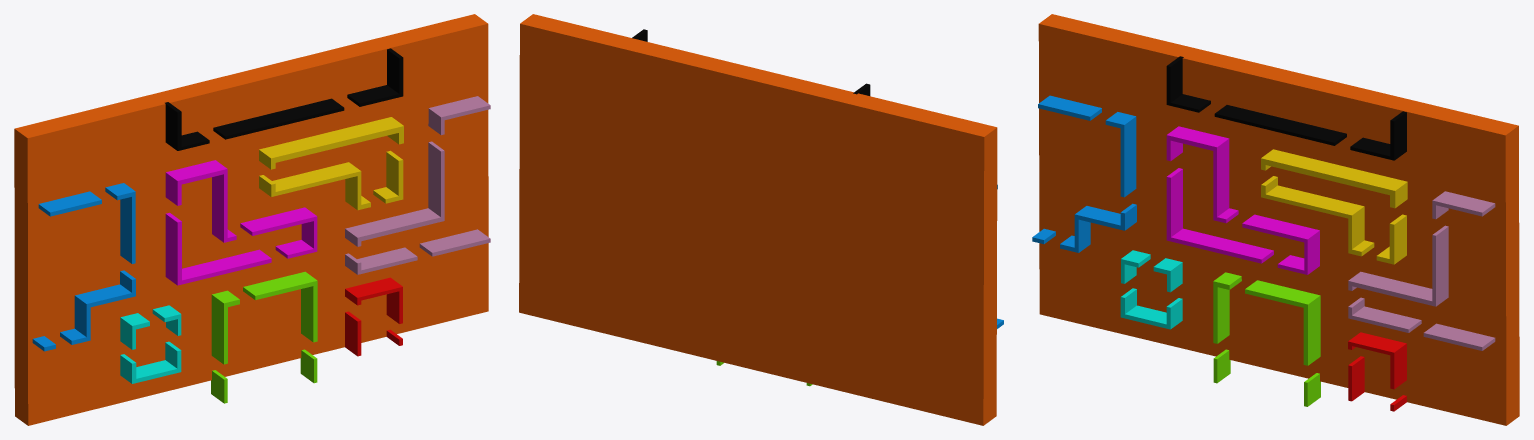
Rendered from map_#2 (1).fbx.
3 views of the same model, side by side, from view 1: azimuth 30°, elevation 25°; view 2: azimuth 150°, elevation 25°; view 3: azimuth 330°, elevation 25° (orthographic).
Parts seen in each view (by area): view 1: pCube37; view 2: pCube37; view 3: pCube37.
Boxes of the visible parts, x1,y1,x2,y2 form: pCube37: (14,14,490,425); pCube37: (519,14,1003,425); pCube37: (1032,14,1519,425).
Bounding box in the file's own units: 20.18 × 12.71 × 1.97.
